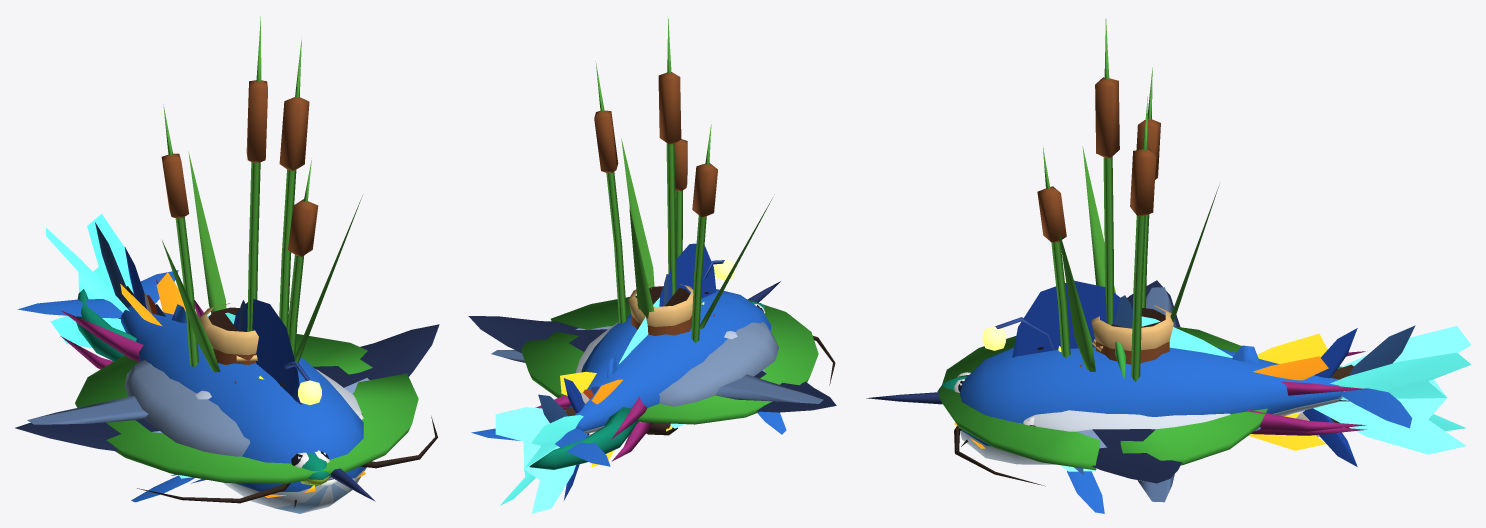
Rendered from fish.glb.
The picture shows the model from 3 angles, left to right: view 1: azimuth 30°, elevation 25°; view 2: azimuth 150°, elevation 25°; view 3: azimuth 270°, elevation 25°; orthographic projection. The views are drawn at different scales.
Visible parts, largest first — view 1: fish_whale_body, reeds, lily_pad, fish_sunfish_body, fish_manta_body, fish_guardian_tail, fish_swordfish_body, boot_body, fish_whale_tail, fish_kraken_tail, fish_catfish_body, fish_eel_tail (+5 smaller); view 2: reeds, fish_whale_body, lily_pad, fish_sunfish_body, fish_guardian_tail, fish_manta_body, boot_body, fish_eel_tail, fish_swordfish_body, fish_whale_tail, fish_kraken_tail, fish_golden_tail (+3 smaller); view 3: fish_whale_body, reeds, lily_pad, fish_guardian_tail, fish_swordfish_body, fish_sunfish_body, fish_manta_body, fish_golden_tail, boot_body, fish_kraken_tail, fish_swordfish_tail, fish_whale_tail (+3 smaller).
Boxes of the visible parts, left/top/right/bottom form: fish_whale_body: left=121, top=304, right=366, bottom=513; reeds: left=161, top=16, right=362, bottom=372; lily_pad: left=75, top=334, right=418, bottom=483; fish_sunfish_body: left=27, top=360, right=361, bottom=456; fish_manta_body: left=15, top=324, right=439, bottom=451; fish_guardian_tail: left=46, top=214, right=133, bottom=347; fish_swordfish_body: left=191, top=299, right=375, bottom=501; boot_body: left=199, top=303, right=258, bottom=364; fish_whale_tail: left=17, top=270, right=178, bottom=318; fish_kraken_tail: left=60, top=279, right=203, bottom=369; fish_catfish_body: left=137, top=416, right=437, bottom=508; fish_eel_tail: left=76, top=289, right=136, bottom=361; reeds: left=594, top=18, right=774, bottom=343; fish_whale_body: left=568, top=289, right=786, bottom=434; lily_pad: left=521, top=295, right=818, bottom=424; fish_sunfish_body: left=491, top=321, right=823, bottom=406; fish_guardian_tail: left=495, top=407, right=586, bottom=513; fish_manta_body: left=468, top=316, right=836, bottom=412; boot_body: left=627, top=283, right=693, bottom=435; fish_eel_tail: left=529, top=407, right=638, bottom=469; fish_swordfish_body: left=659, top=243, right=780, bottom=306; fish_whale_tail: left=471, top=428, right=610, bottom=466; fish_kraken_tail: left=535, top=395, right=652, bottom=461; fish_golden_tail: left=560, top=371, right=622, bottom=467; fish_whale_body: left=960, top=345, right=1343, bottom=513; reeds: left=1037, top=19, right=1219, bottom=382; lily_pad: left=938, top=327, right=1267, bottom=470; fish_guardian_tail: left=1313, top=326, right=1471, bottom=454; fish_swordfish_body: left=866, top=280, right=1132, bottom=404; fish_sunfish_body: left=1024, top=287, right=1230, bottom=502; fish_manta_body: left=1077, top=280, right=1182, bottom=483; fish_golden_tail: left=1248, top=333, right=1328, bottom=450; boot_body: left=1091, top=305, right=1173, bottom=378; fish_kraken_tail: left=1247, top=351, right=1367, bottom=435; fish_swordfish_tail: left=1302, top=328, right=1357, bottom=466; fish_whale_tail: left=1340, top=388, right=1412, bottom=428.
Bounding box in the file's own units: 1 × 1.05 × 1.26.
